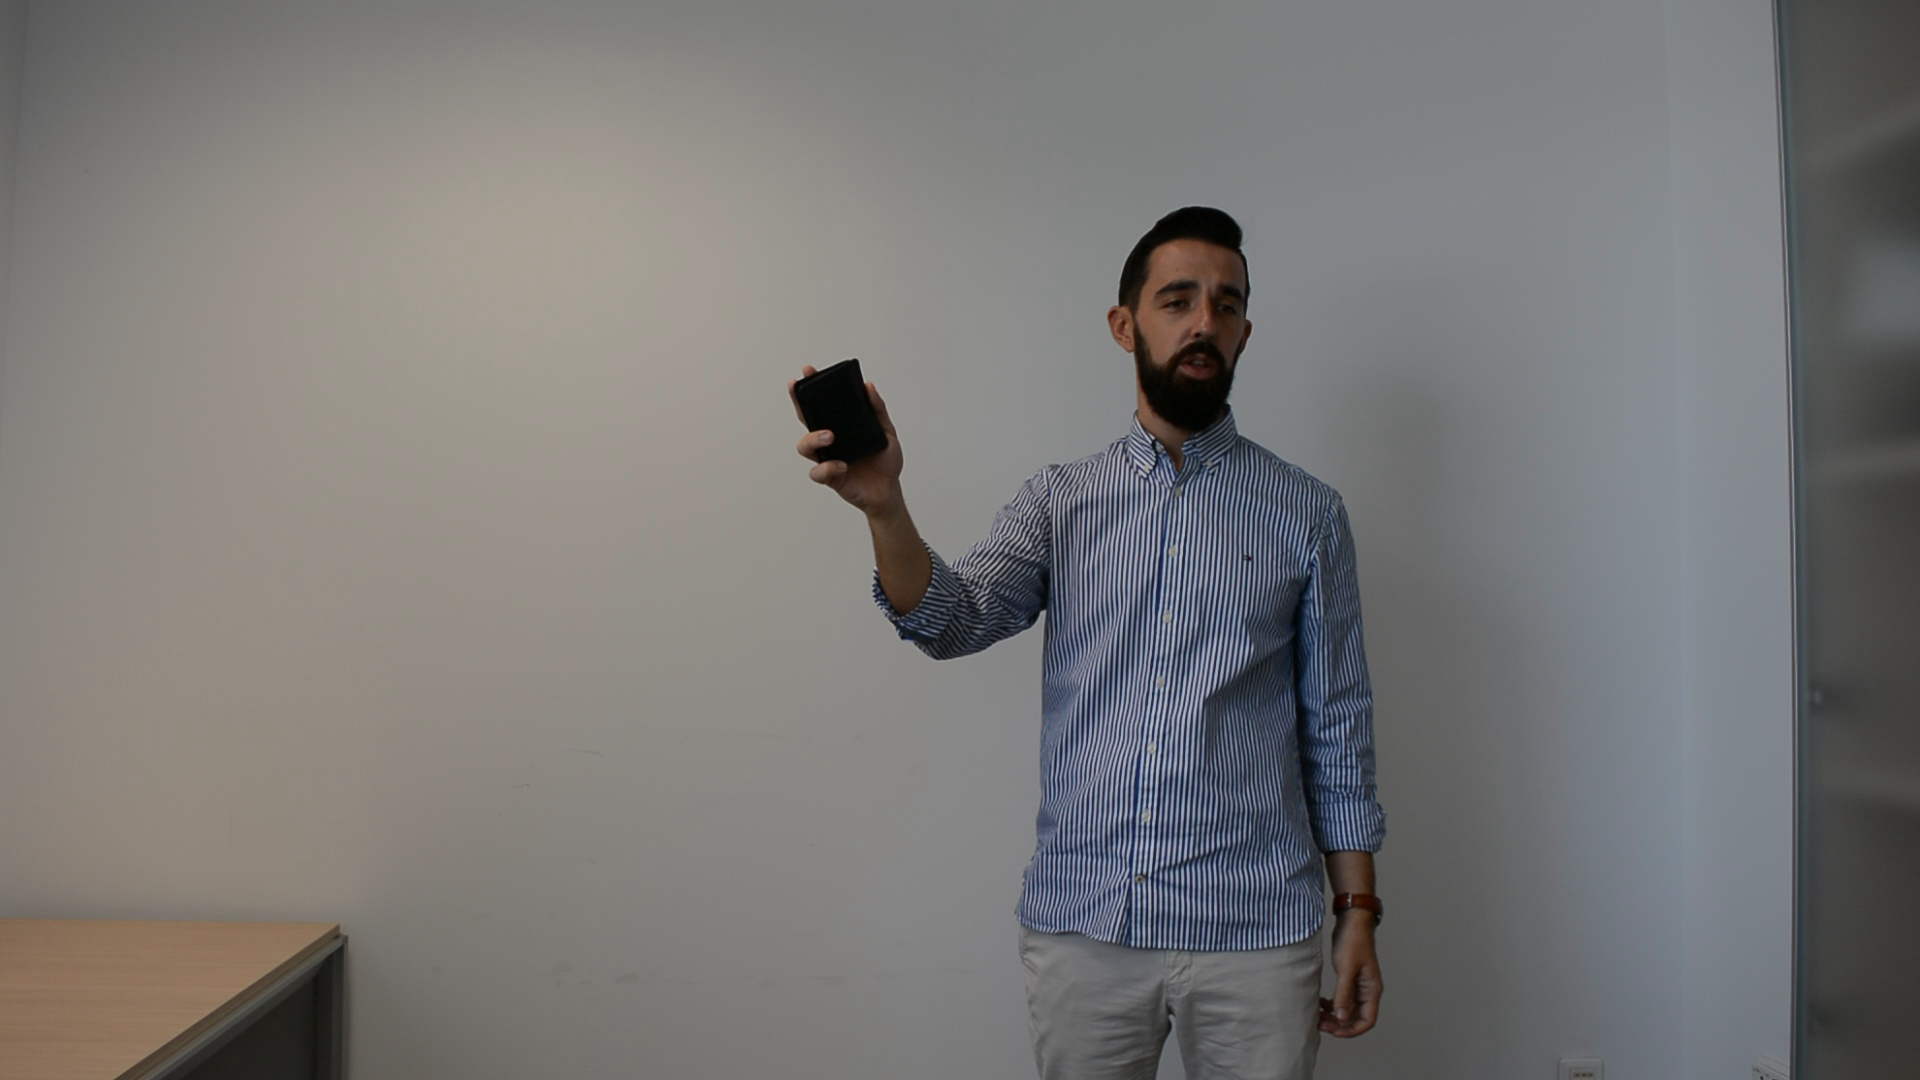monedero: (789, 355, 891, 471)
